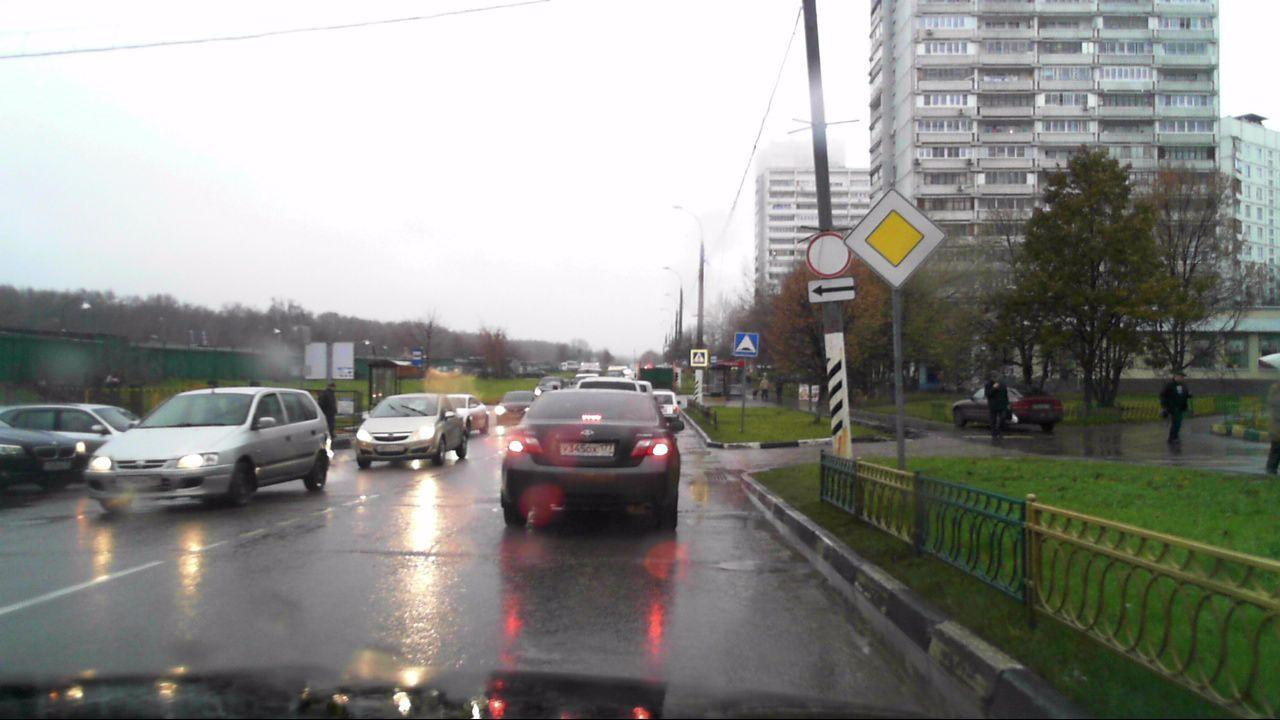2_1: (845, 189, 946, 287)
3_2: (802, 228, 853, 276)
5_16: (411, 348, 424, 365)
5_19_1: (690, 350, 708, 366)
5_20: (734, 332, 758, 357)
8_3_2: (808, 276, 856, 302)
